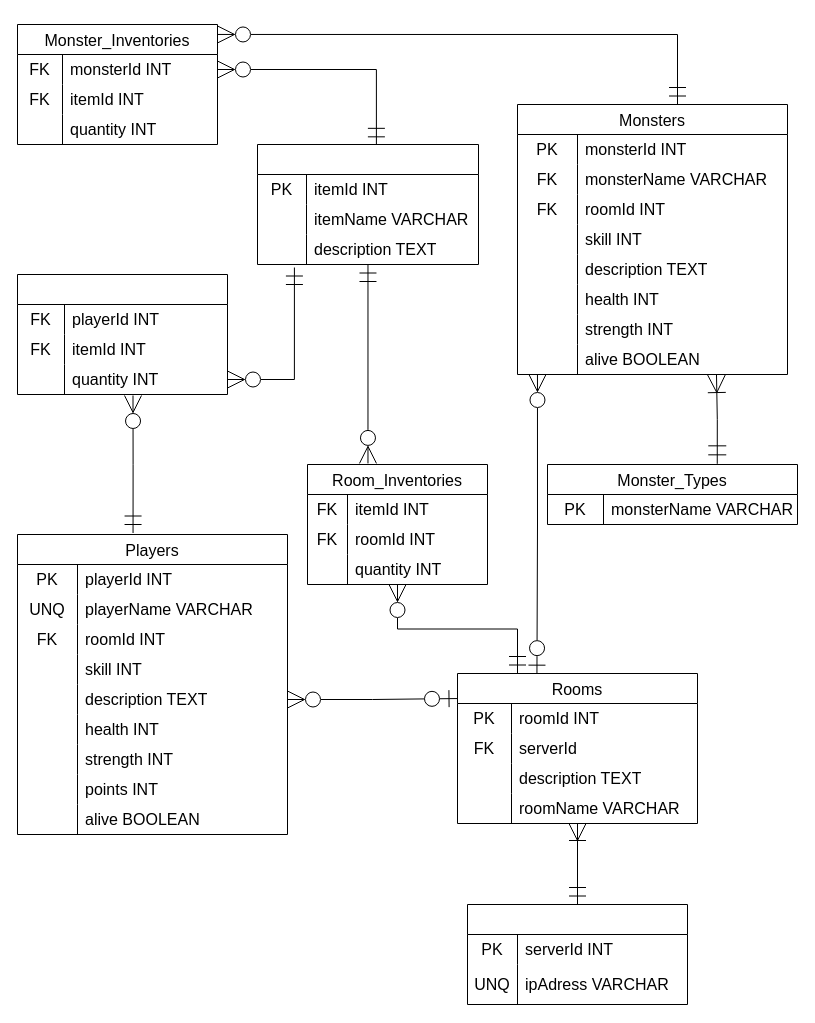
The diagram is 815 pixels wide and 1023 high, and some of its shapes have lost their labels. Each missing label, with the box of its shape:
Items: (256, 144, 478, 264)
Player_Inventories: (16, 274, 228, 394)
Servers: (466, 904, 688, 1004)
